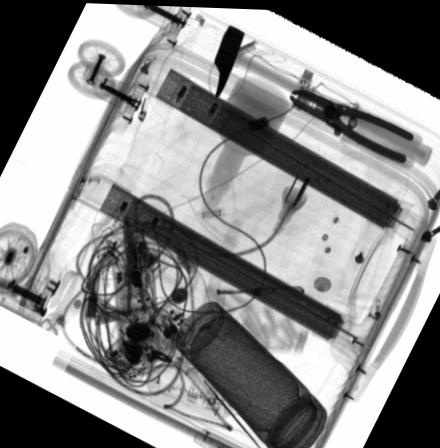Hammer: (211, 22, 434, 165)
Knife: (188, 213, 242, 366), (122, 213, 143, 287)
Pliers: (287, 83, 422, 166)
Scissors: (92, 212, 175, 365)
